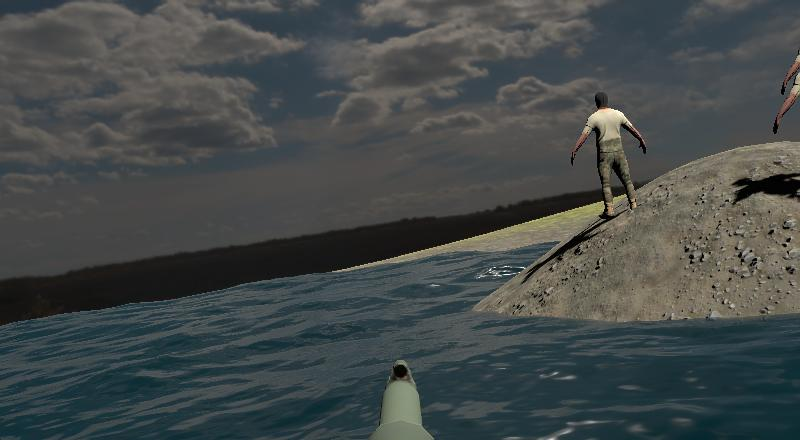Human: (567, 88, 651, 224)
